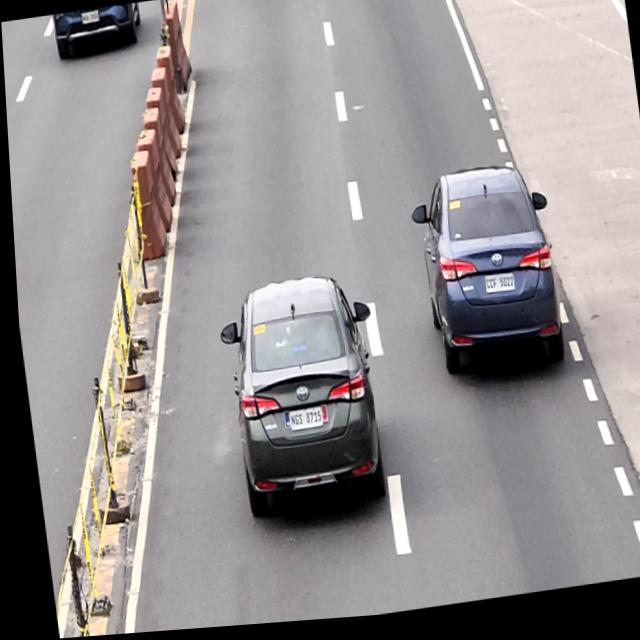Car: (211, 275, 388, 526), (404, 165, 563, 392)
License-Plate: (282, 410, 318, 434), (479, 278, 512, 301)
